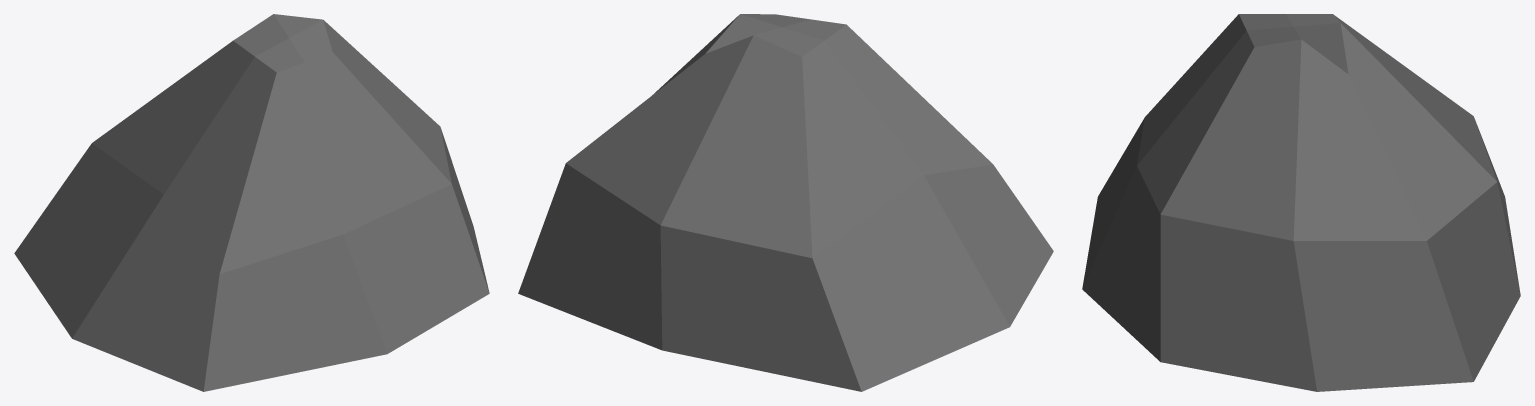
3 views of the same model, side by side, from view 1: azimuth 30°, elevation 25°; view 2: azimuth 150°, elevation 25°; view 3: azimuth 270°, elevation 25° (orthographic). The views are drawn at different scales.
Parts seen in each view (by area): view 1: cuboid; view 2: cuboid; view 3: cuboid.
Part boxes in pixels (left/top/right/bottom): cuboid: left=14, top=14, right=489, bottom=391; cuboid: left=518, top=14, right=1053, bottom=391; cuboid: left=1082, top=14, right=1520, bottom=391.
Bounding box in the file's own units: 206 × 119 × 175.
1 material, 1 textured.
